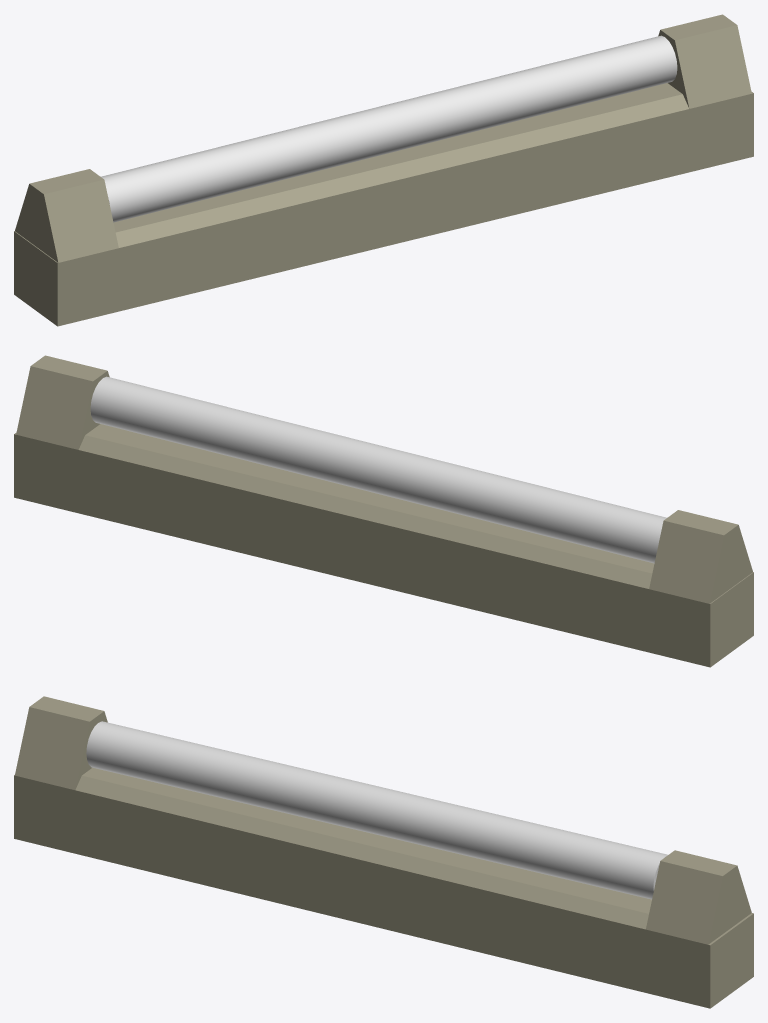
The model's file is fluorescent.fbx.
3 renders of one model, top to bottom at view 1: azimuth 30°, elevation 25°; view 2: azimuth 150°, elevation 25°; view 3: azimuth 330°, elevation 25°, orthographic.
Visible parts, largest first — view 1: pCube1, pCylinder1; view 2: pCube1, pCylinder1; view 3: pCube1, pCylinder1.
Part boxes in pixels (x1,y1,x2,y2): pCube1: (14, 14, 753, 326); pCylinder1: (101, 35, 677, 222); pCube1: (14, 355, 753, 667); pCylinder1: (90, 376, 666, 563); pCube1: (14, 696, 753, 1008); pCylinder1: (86, 721, 667, 899).
Bounding box in the file's own units: 8.15 × 1.36 × 0.8845.
